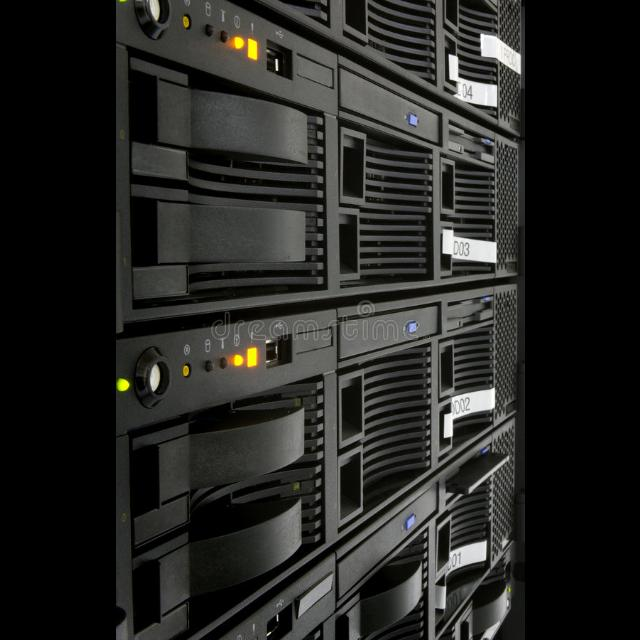Server: (142, 0, 524, 640)
